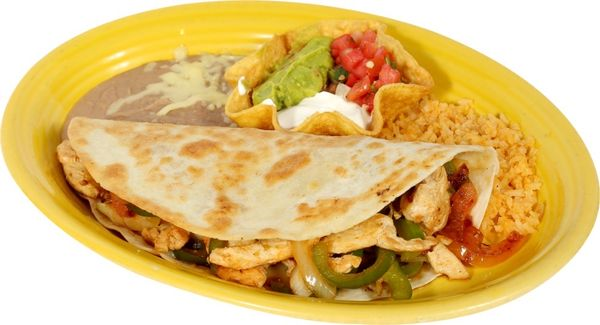soup: (59, 117, 483, 301)
